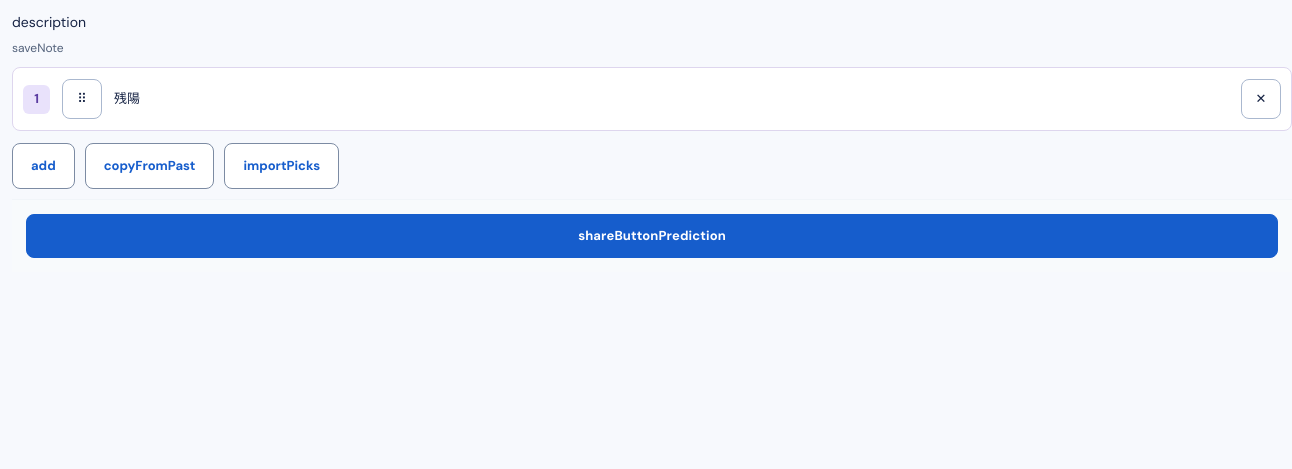
Scenario: <PredictedSetlist> import my expected songs › appends my board expected songs in board group order, skipping listed, duplicate and unavailable ones
Click the button with test id "predict-import-picks". click: (282, 166)
box: [224,143,339,189]
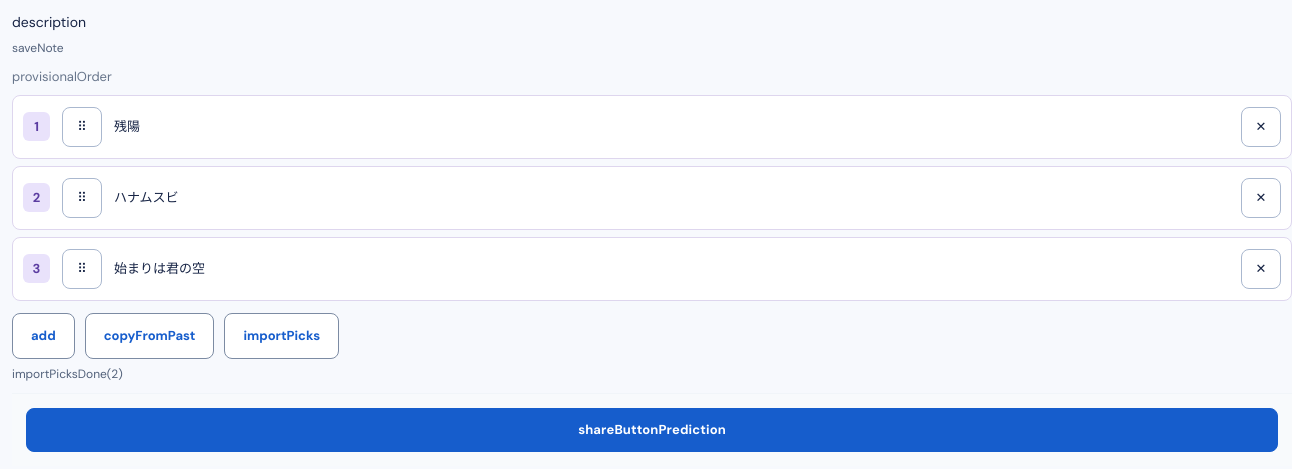
Now the text "provisionalOrder" is shown, box [12,68,112,85]
Now the message with test id "predict-import-note" reads "importPicksDone(2)", box [12,366,123,382]
